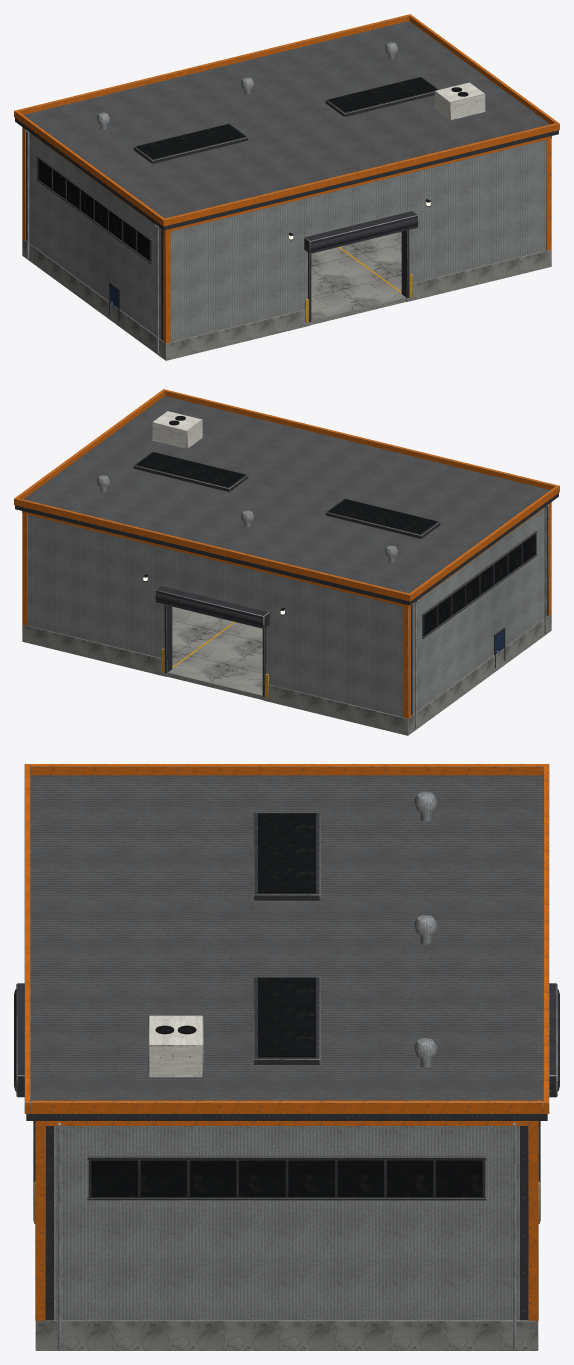
Rendered from warehouse.glb.
The picture shows the model from 3 angles, top to bottom: view 1: azimuth 30°, elevation 25°; view 2: azimuth 150°, elevation 25°; view 3: azimuth 270°, elevation 25°; orthographic projection. The views are drawn at different scales.
Visible parts, largest first — view 1: warehouse_structure, warehouse_details; view 2: warehouse_structure, warehouse_details; view 3: warehouse_structure, warehouse_details.
Boxes of the visible parts, x1=… form: warehouse_structure: x1=15, y1=21, x2=558, y2=341; warehouse_details: x1=14, y1=14, x2=559, y2=360; warehouse_structure: x1=15, y1=396, x2=558, y2=716; warehouse_details: x1=14, y1=389, x2=559, y2=735; warehouse_structure: x1=26, y1=775, x2=547, y2=1320; warehouse_details: x1=14, y1=764, x2=559, y2=1350.
Bounding box in the file's own units: 28.9 × 11.03 × 19.68.
14 materials, 13 textured.
